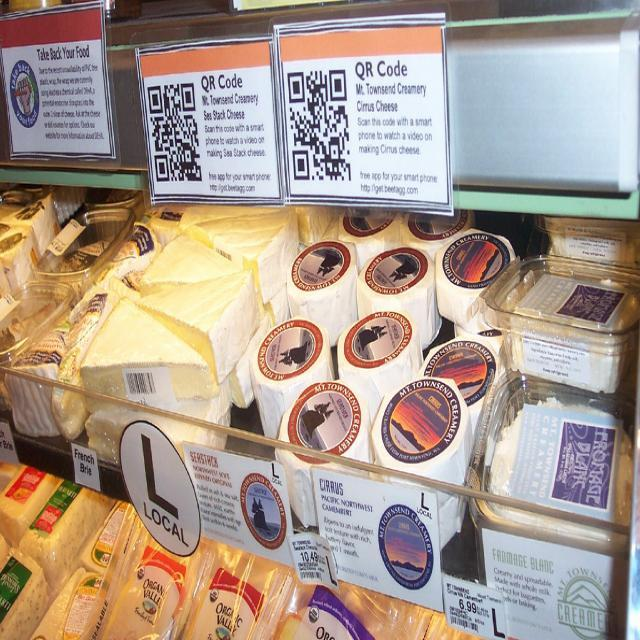qrcode: (288, 70, 352, 181), (148, 84, 203, 182)
